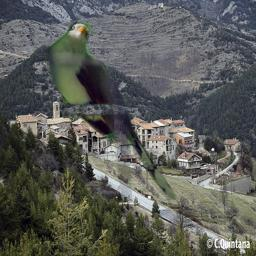Cuckoo: (45, 21, 186, 203)
